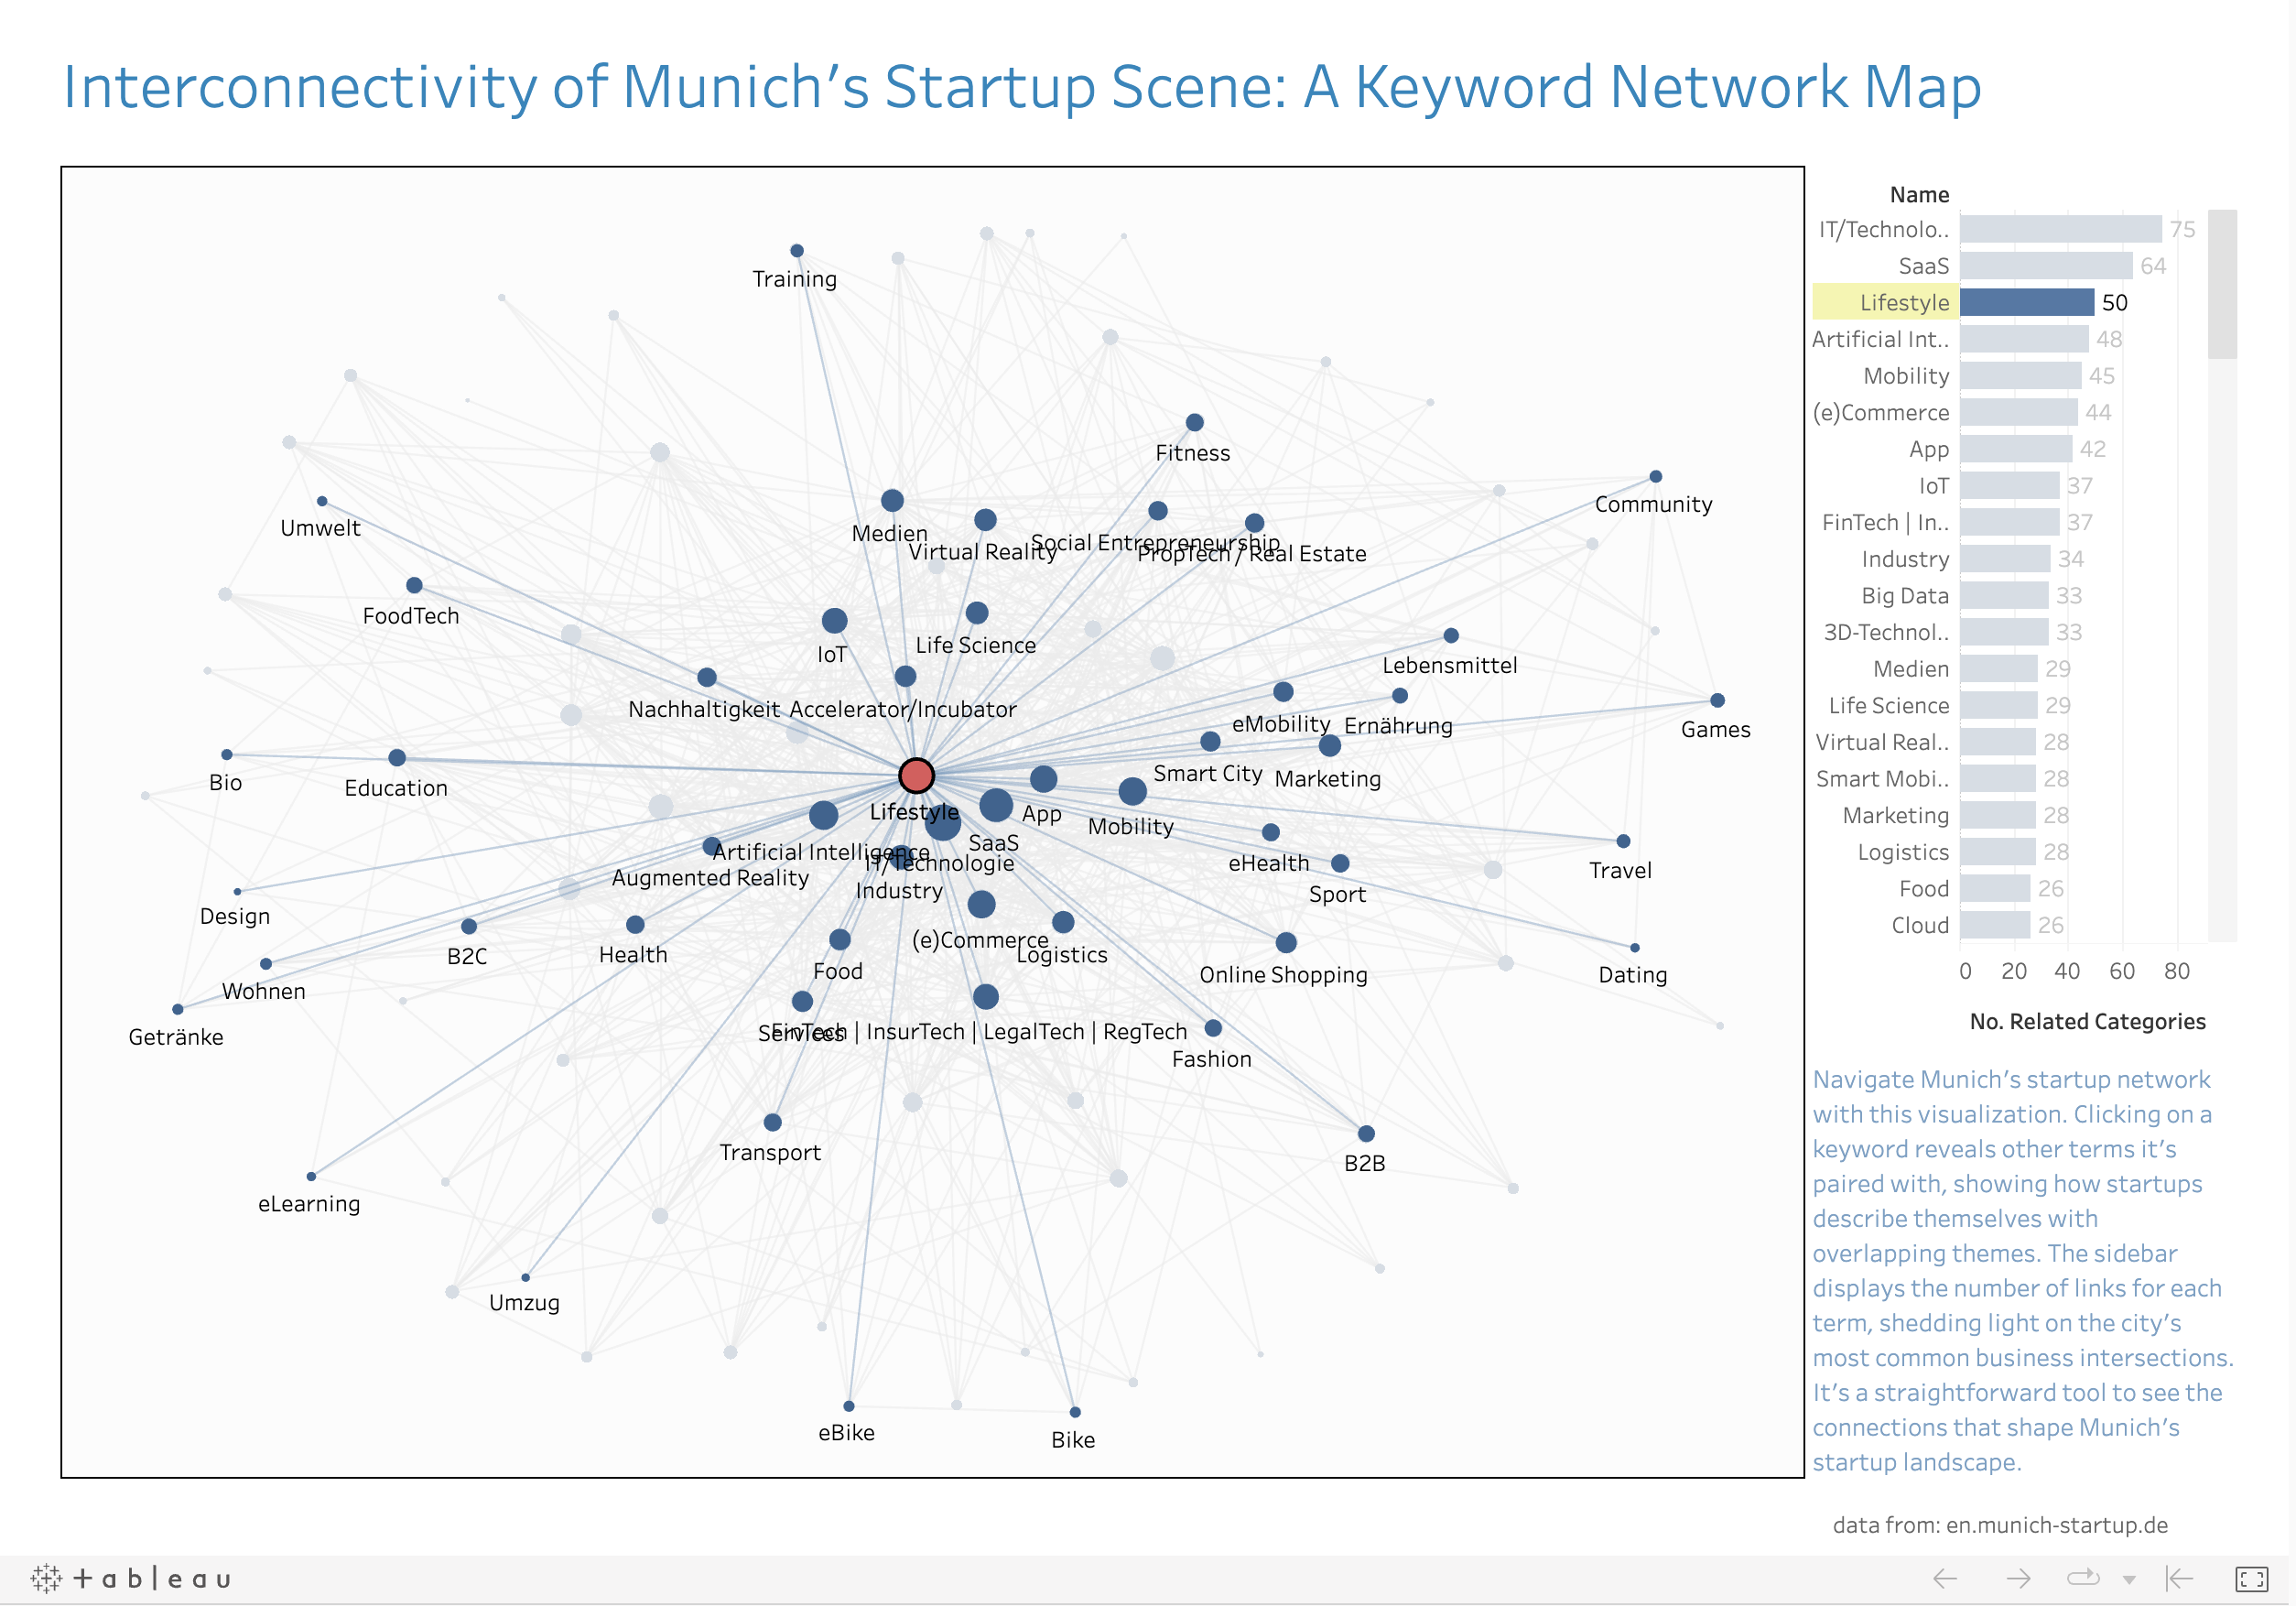

This screenshot's page, from the dashboard's own definition file:
{"tool":"tableau","page":{"name":"Dashboard 1","canvas":[1000,1000],"units":"permille","ordinal":0},"visuals":[{"type":"title","box":[0,0,1000,81.3]},{"type":"image","param":"Image/flag of bavaria.jpeg","box":[0,81.3,433.4,371.6]},{"type":"worksheet","title":"Map","mark":"Automatic","rows":["Calculation_349803051479298061"],"cols":["Calculation_349803051479638030"],"box":[433.4,81.3,566.6,872]},{"type":"worksheet","title":"number of rows","mark":"Text","box":[0,452.8,433.4,116.1]},{"type":"worksheet","title":"Top Tags","mark":"Automatic","rows":["tag"],"cols":["Calculation_349803051509141525"],"box":[0,568.9,433.4,431.1]},{"type":"text","box":[433.4,953.3,566.6,46.7]}]}

Visuals, with their boxes on the dashboard's canvas, which has no fixed pixel size, in thousandths of its width and height (x1, y1, x2, y2). These are canvas units, not pixel positions in the 2296x1606 screenshot, which may show the page scaled, cropped or inside an application window:
title: bbox(0, 0, 1000, 81)
image: bbox(0, 81, 433, 453)
"Map" worksheet: bbox(433, 81, 1000, 953)
"number of rows" worksheet (Text marks): bbox(0, 453, 433, 569)
"Top Tags" worksheet: bbox(0, 569, 433, 1000)
text: bbox(433, 953, 1000, 1000)
